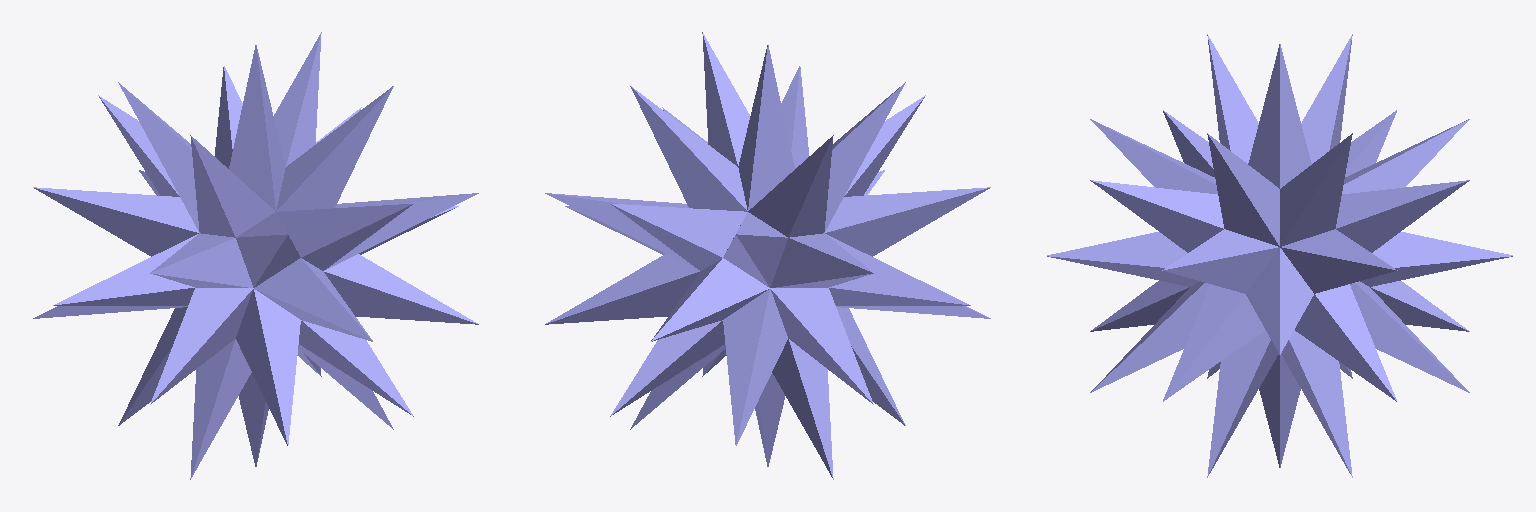
The model's file is GreatRhombidodecacron.obj.
3 renders of one model, left to right at view 1: azimuth 30°, elevation 25°; view 2: azimuth 150°, elevation 25°; view 3: azimuth 270°, elevation 25°, orthographic.
Size of the model in its own units: 4.47 by 4.47 by 4.47.